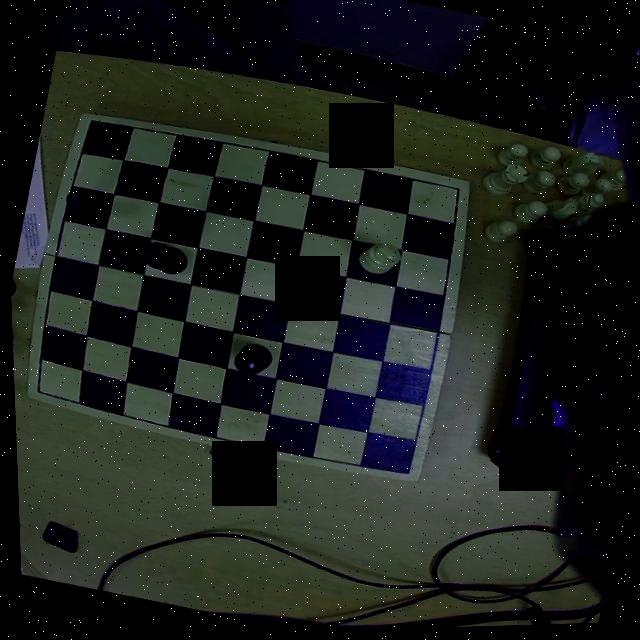chess-table-corners: (387, 456, 417, 484), (443, 180, 470, 207), (77, 110, 109, 132), (22, 374, 48, 398)
